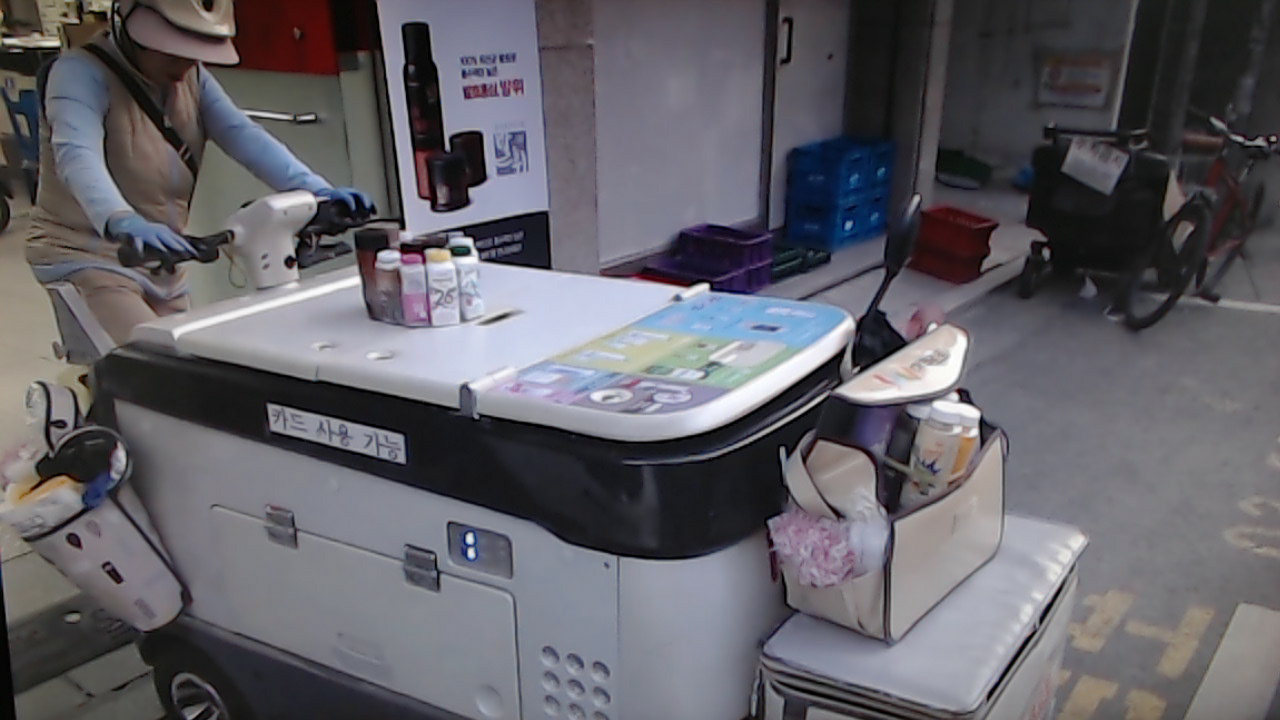Yakurut: (18, 6, 385, 374)
